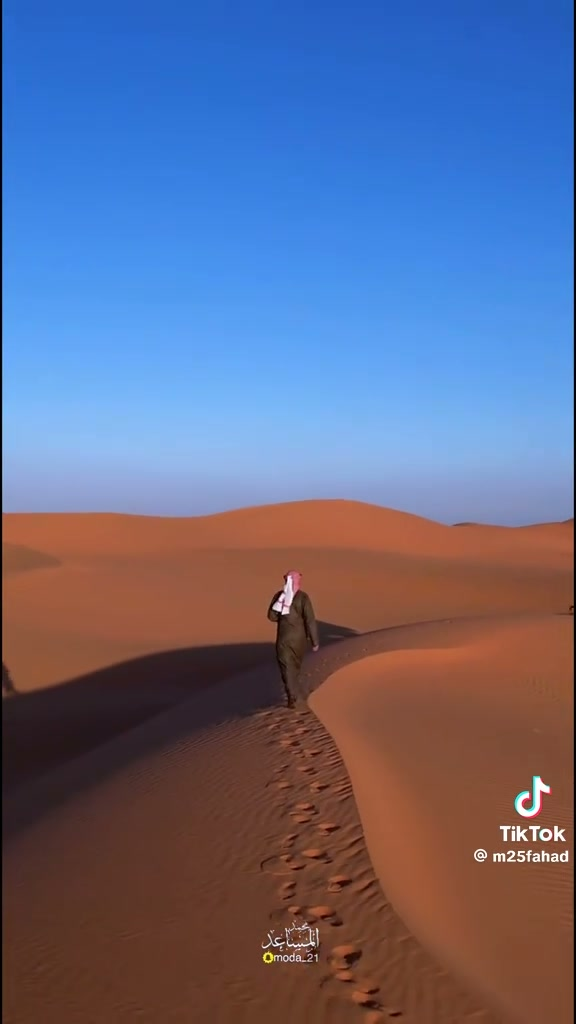human_footprint: (262, 721, 376, 962), (268, 570, 318, 706), (2, 662, 17, 696)
